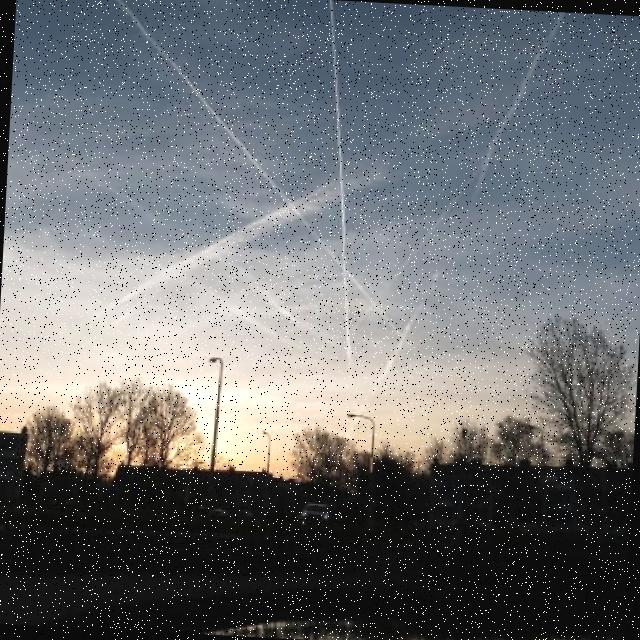Ct: (1, 1, 640, 342)
